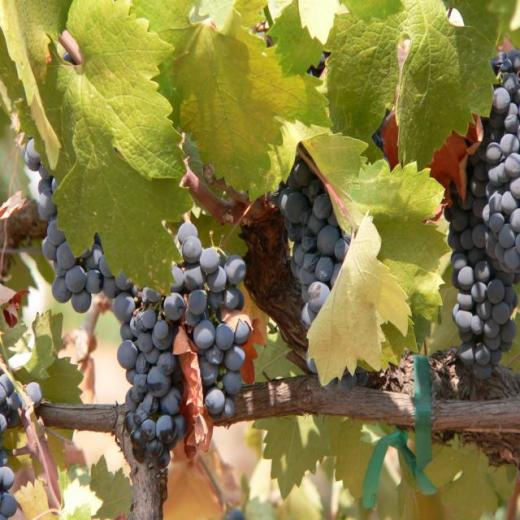Orange: (24, 50, 188, 470), (271, 50, 390, 392), (443, 48, 520, 379), (178, 222, 250, 418), (0, 374, 43, 519)
